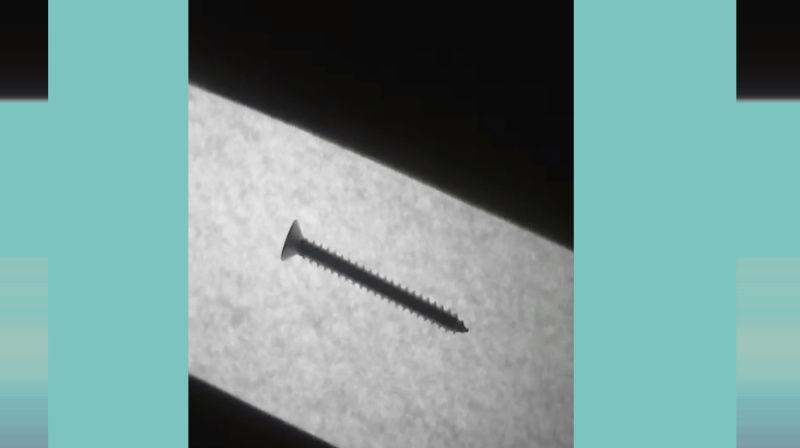S002: (280, 216, 473, 336)
